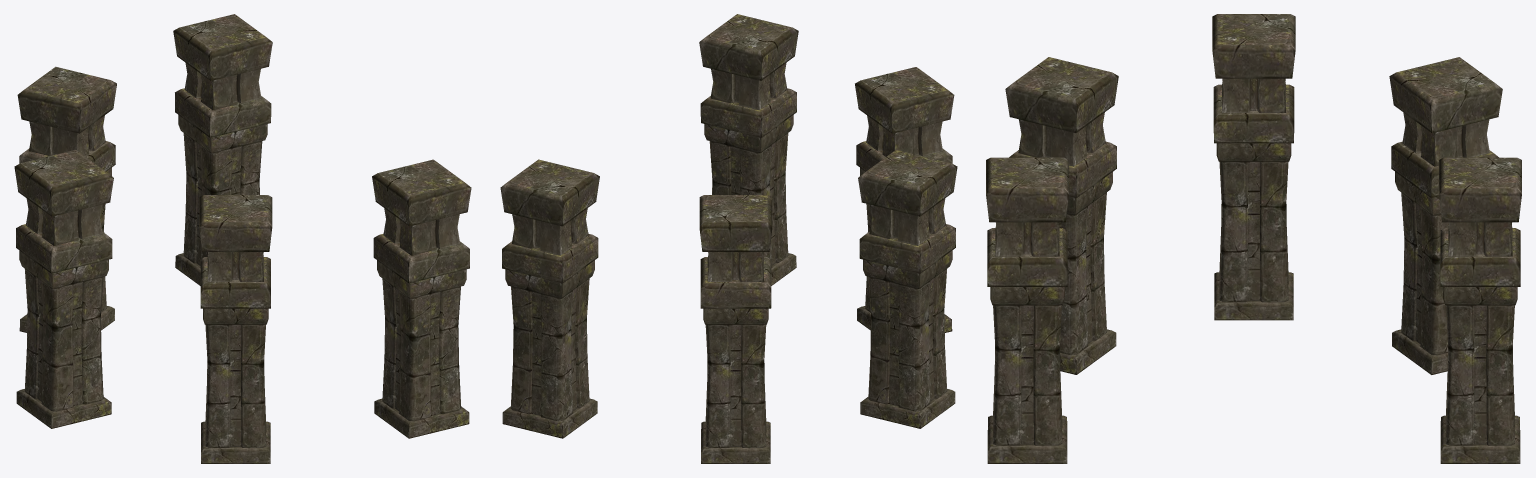
File: Column_Alley_Rounded_01-transformed.glb
The picture shows the model from 3 angles, left to right: view 1: azimuth 30°, elevation 25°; view 2: azimuth 150°, elevation 25°; view 3: azimuth 270°, elevation 25°; orthographic projection. The views are drawn at different scales.
Visible parts, largest first — view 1: default; view 2: default; view 3: default.
Boxes of the visible parts, x1,y1,x2,y2 form: default: (14, 14, 471, 463); default: (500, 14, 957, 463); default: (986, 14, 1521, 463).
Bounding box in the file's own units: 5.6 × 4.01 × 7.1.
1 material, 1 textured.
